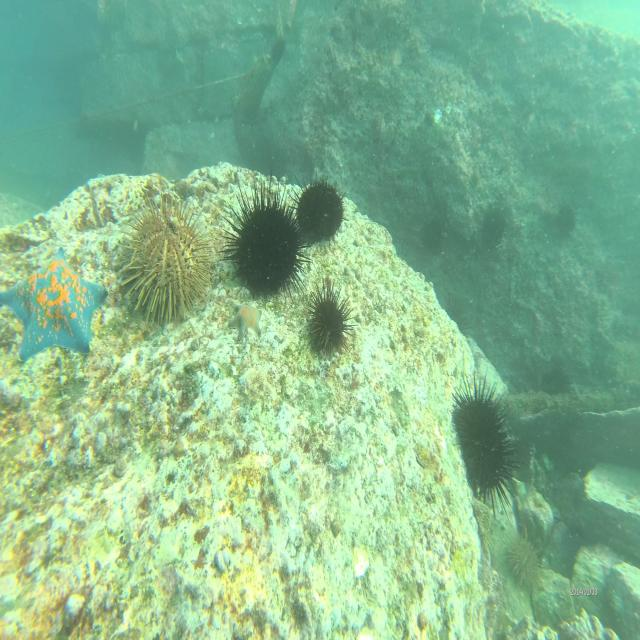echinus: (112, 195, 220, 317), (221, 170, 312, 302), (446, 368, 520, 526), (289, 164, 347, 250), (305, 278, 359, 364), (503, 527, 546, 595), (479, 207, 509, 253), (417, 217, 449, 254), (555, 202, 580, 241)
starfish: (0, 248, 108, 362), (226, 300, 262, 341)
